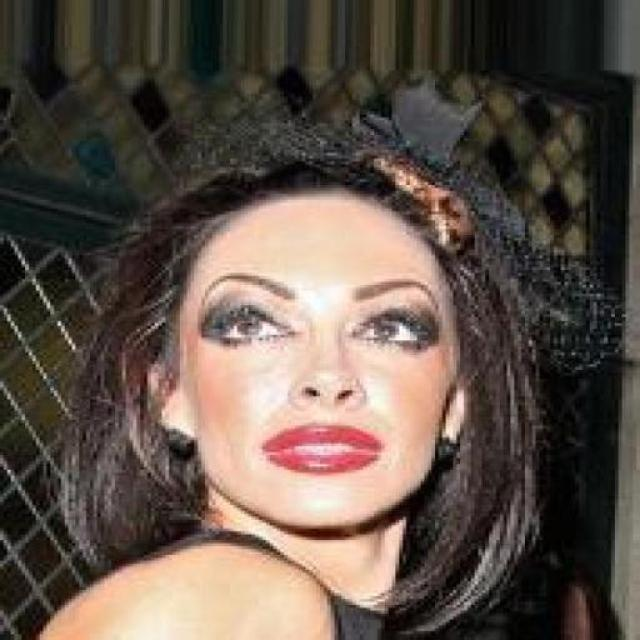bareface: (163, 178, 465, 500)
